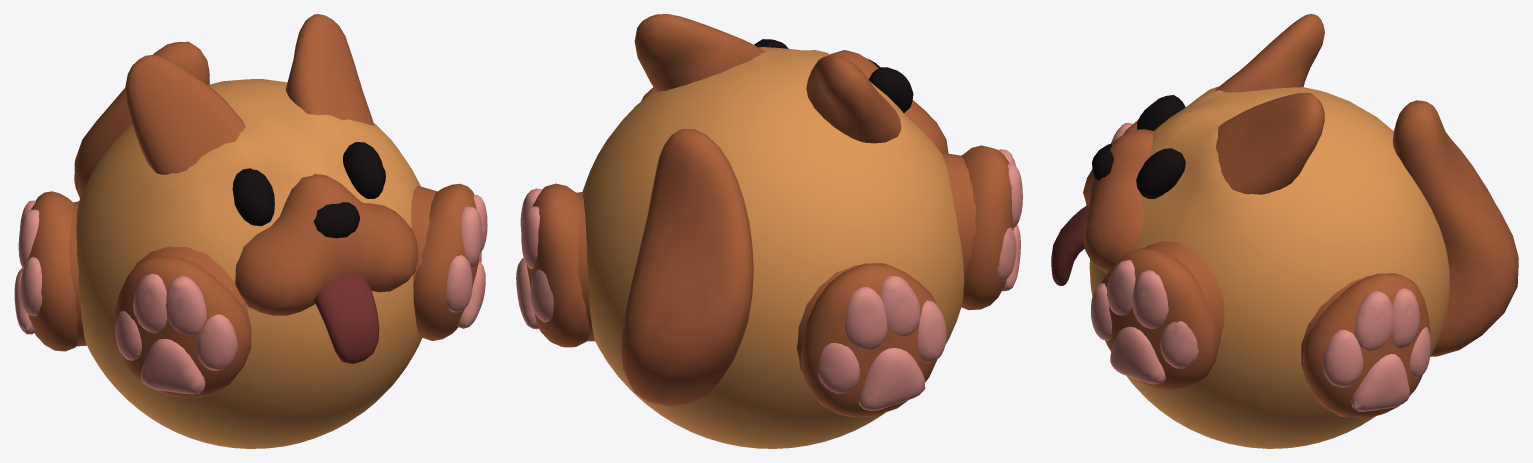
File: Dog_Mesh.fbx
The picture shows the model from 3 angles, left to right: view 1: azimuth 30°, elevation 25°; view 2: azimuth 150°, elevation 25°; view 3: azimuth 270°, elevation 25°; orthographic projection. The views are drawn at different scales.
Parts seen in each view (by area): view 1: Dog_Mesh; view 2: Dog_Mesh; view 3: Dog_Mesh.
Boxes of the visible parts, x1,y1,x2,y2 form: Dog_Mesh: (14,14,487,448); Dog_Mesh: (516,14,1022,448); Dog_Mesh: (1051,14,1518,448).
Bounding box in the file's own units: 308 × 289 × 325.
